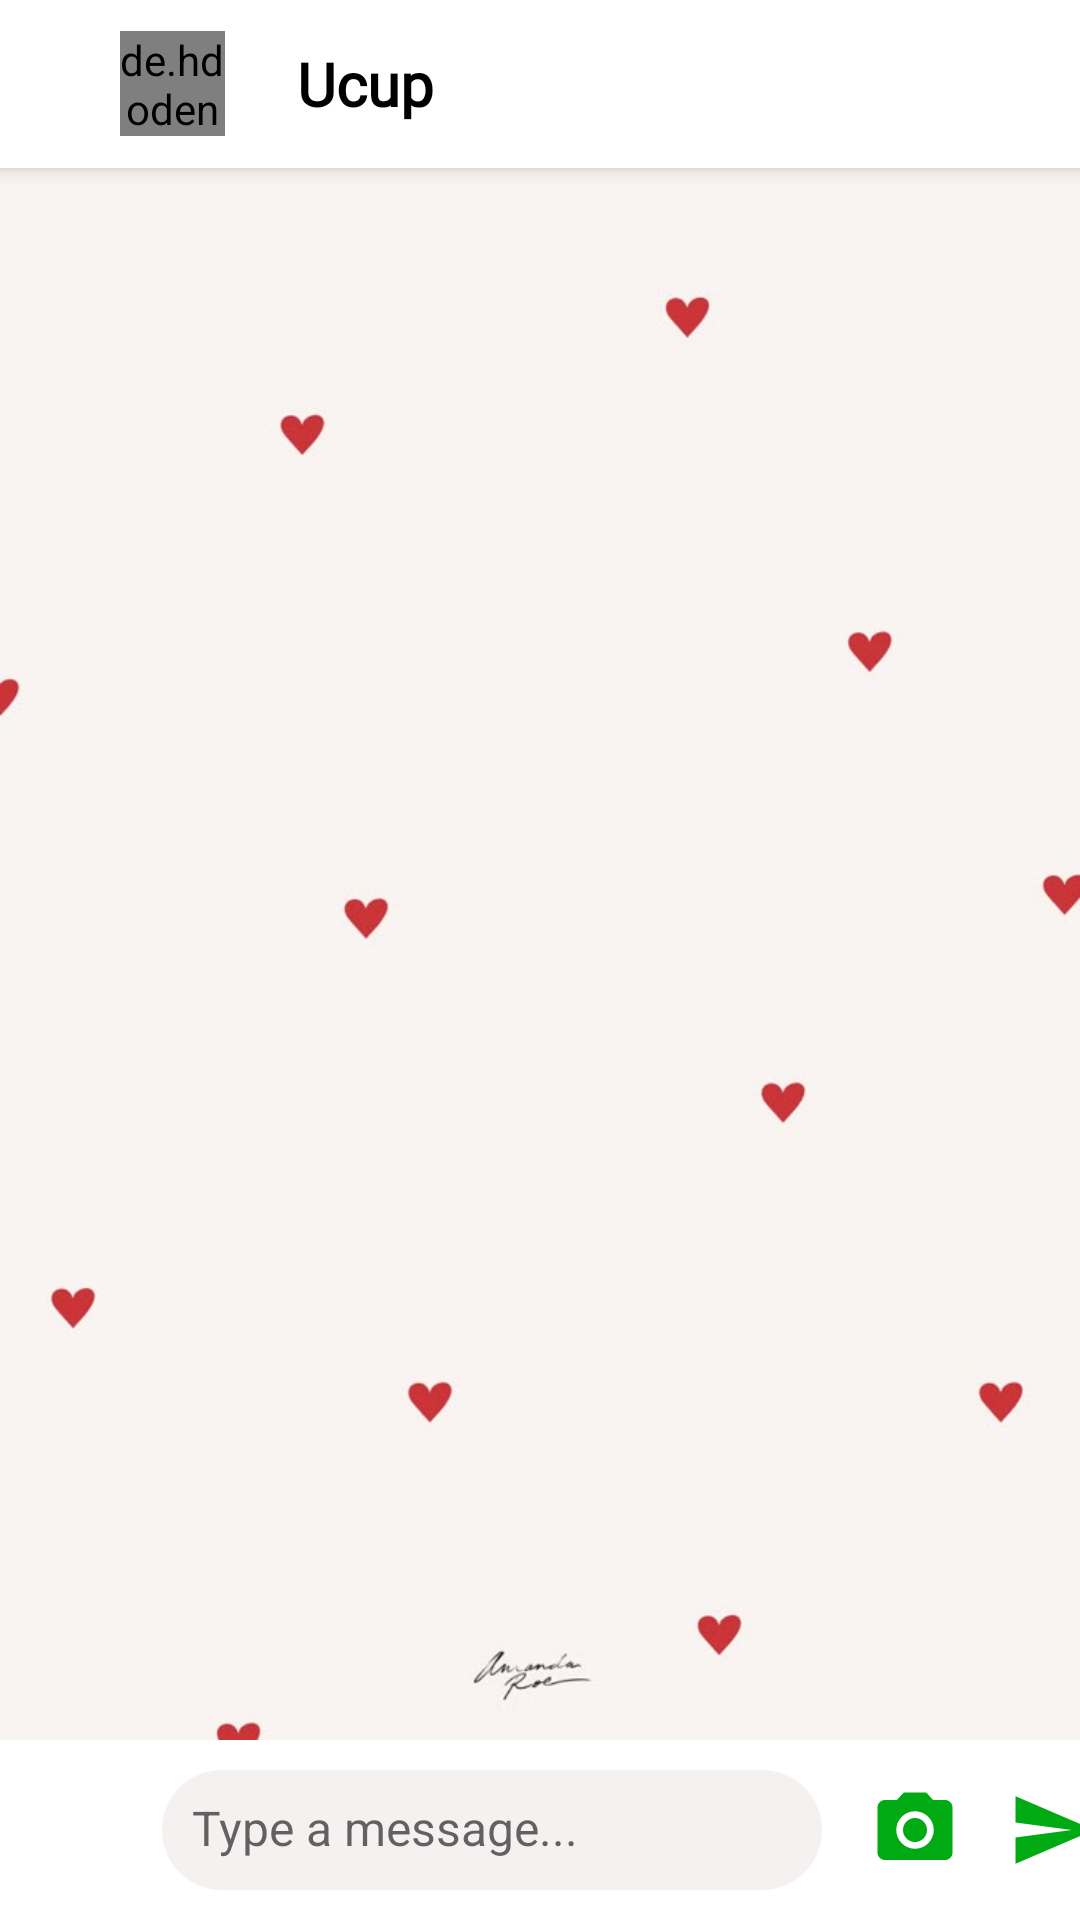

Point at icon controls on the screen. Image size 1080 x 1920, points as (x,y).
camera: (915,1826)
